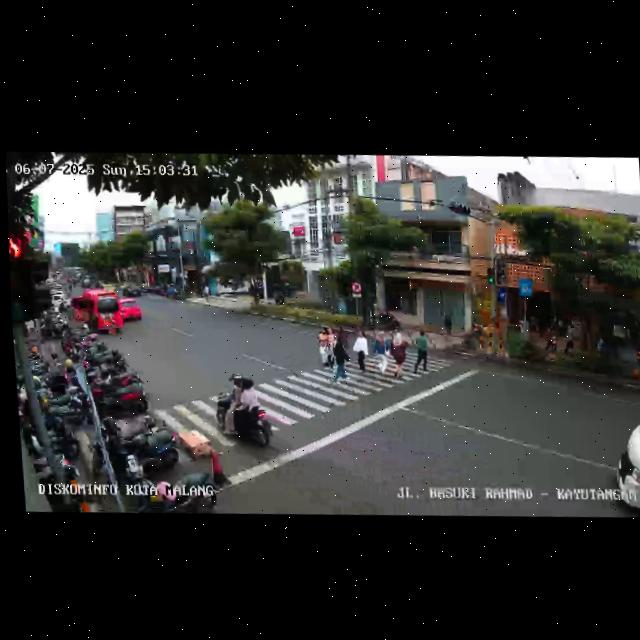car: (604, 397, 640, 518), (67, 290, 123, 338), (118, 295, 144, 326)
motorcycle: (215, 372, 277, 454)
person: (329, 334, 352, 384), (352, 329, 371, 382), (388, 330, 408, 379), (411, 327, 431, 375), (372, 332, 390, 376), (316, 328, 330, 371), (327, 327, 337, 369)
